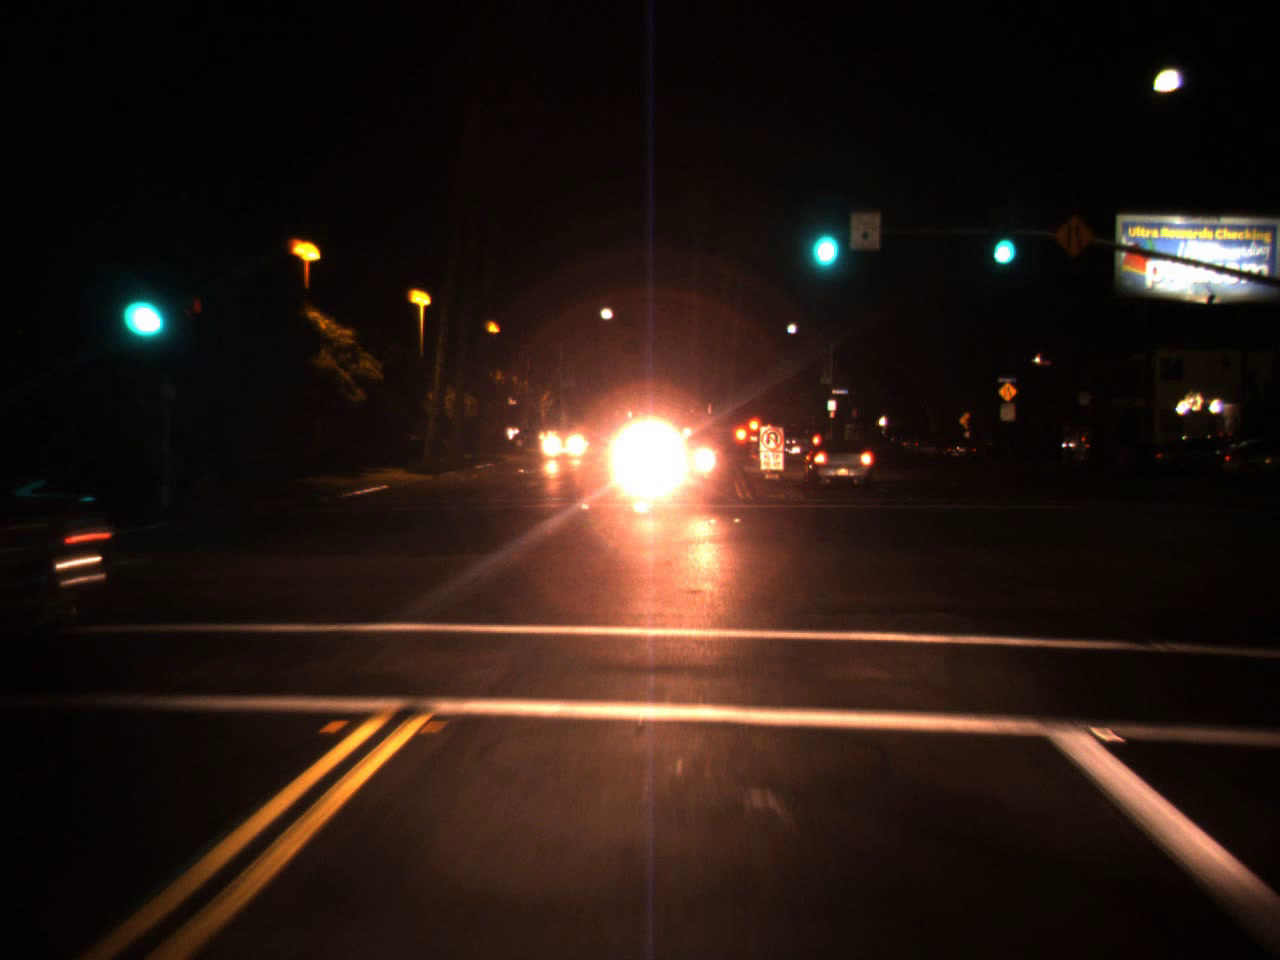go: (120, 264, 166, 348), (802, 195, 845, 279), (986, 214, 1018, 271)
